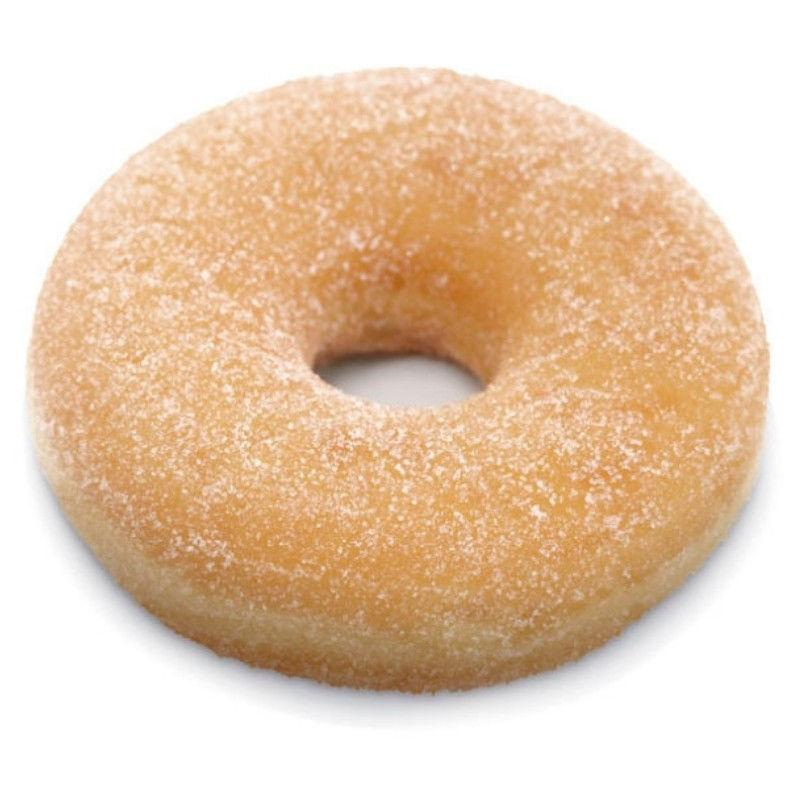donut: (6, 20, 774, 716)
